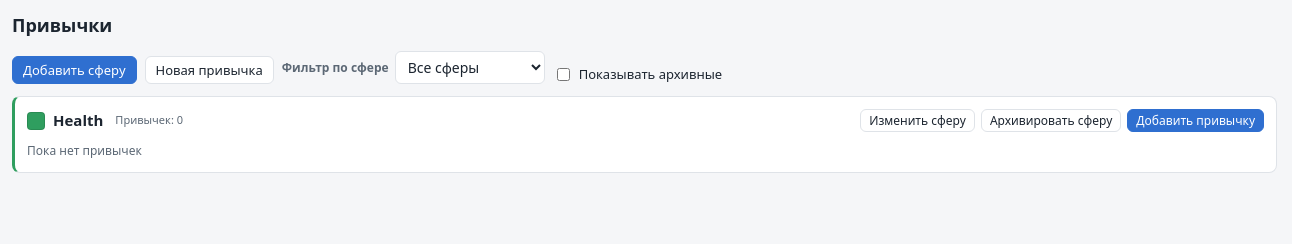
Scenario: Area management within HabitsPage › explains why an area with active habits cannot be archived
Click the button "Архивировать сферу".
click(1051, 120)  # box x1=981 y1=109 x2=1121 y2=132
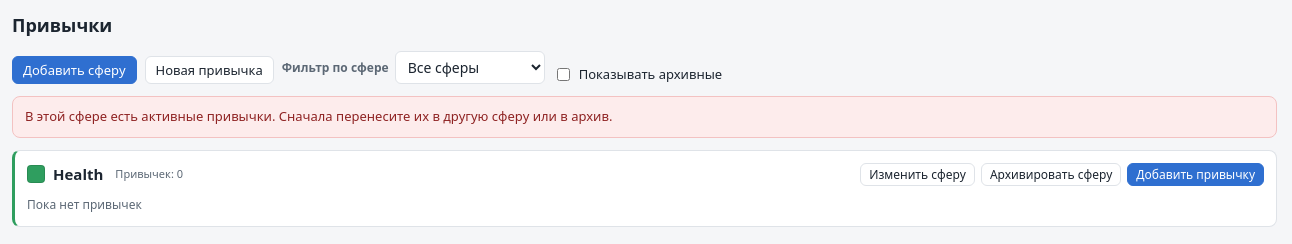
Check: the message shows "В этой сфере есть активные привычки.", box x1=25 y1=107 x2=612 y2=125
